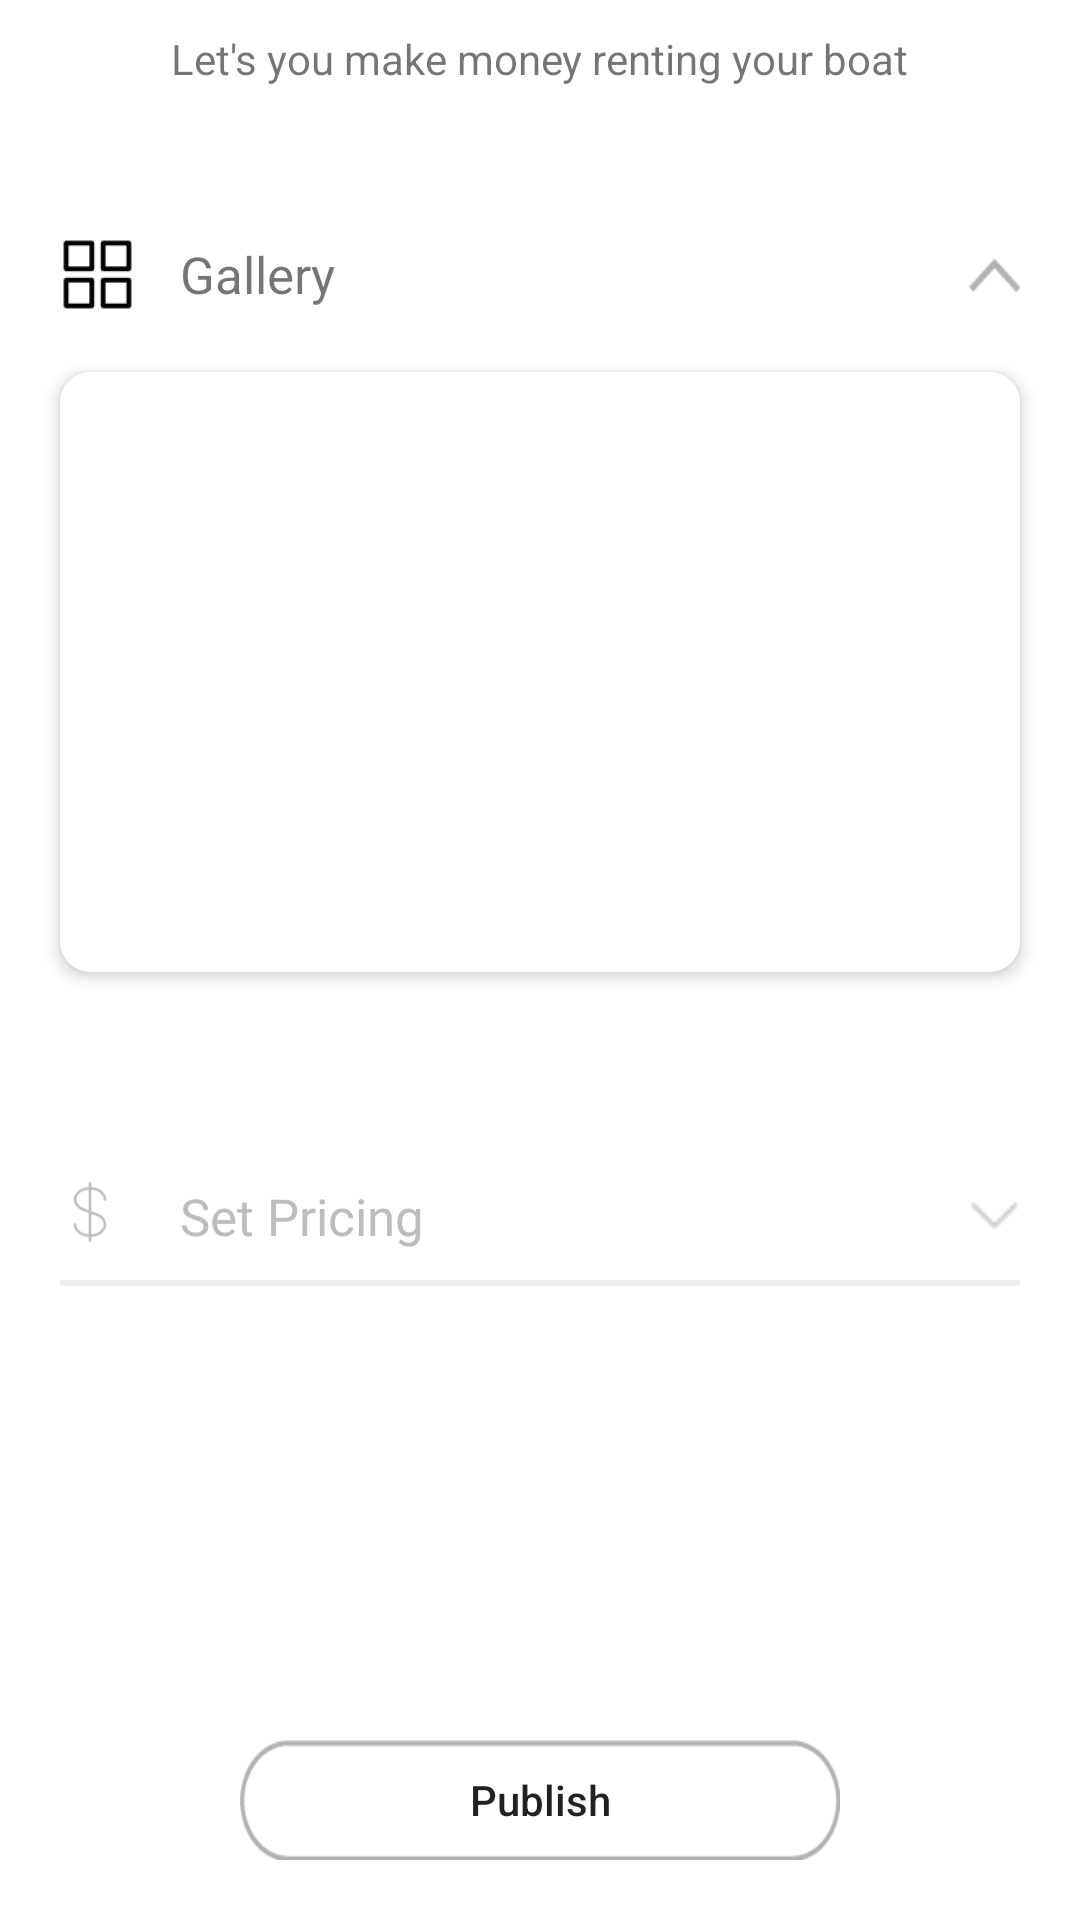

Locate icon controls on the screen. Image size 1080x1920, boxes as (x1, y1, x2, y2).
dollar: (74, 1182, 106, 1242)
downarrow: (972, 1203, 1017, 1228)
uparrow: (969, 259, 1020, 292)
